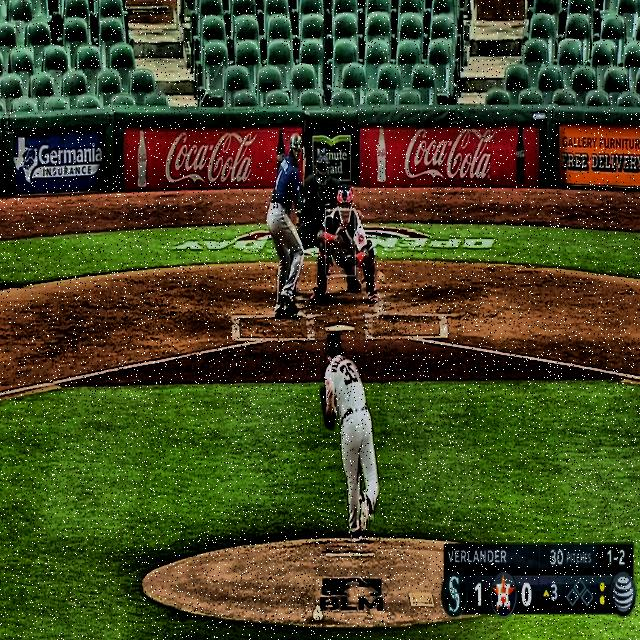baseball: (377, 270, 384, 282)
